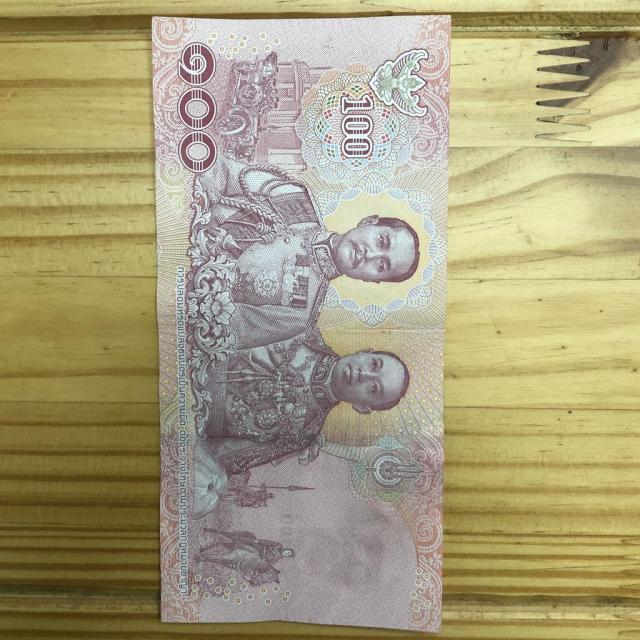THAI100: (152, 14, 449, 632)
